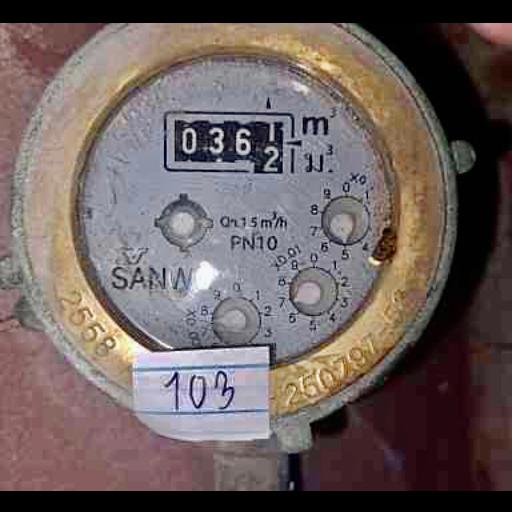0: (175, 119, 205, 162)
1: (255, 120, 284, 173)
3: (203, 119, 232, 161)
6: (231, 119, 257, 162)
border_water_meter_number: (162, 110, 294, 173)
